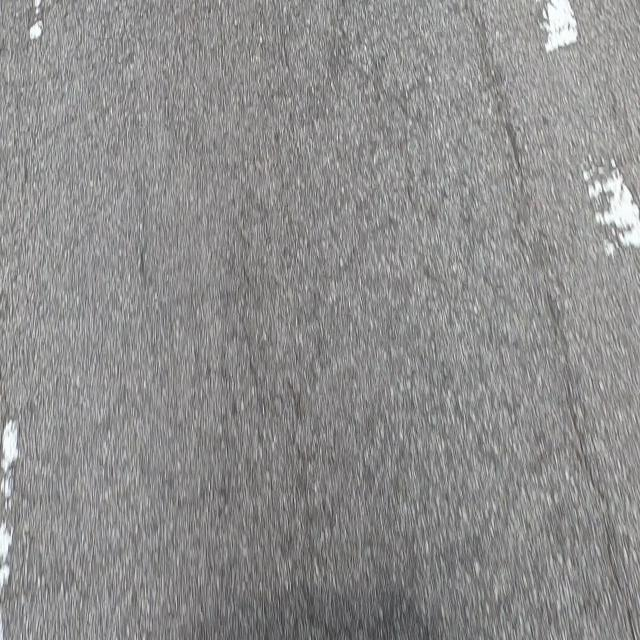Retak-Memanjang: (538, 300, 622, 607), (468, 21, 518, 185)
